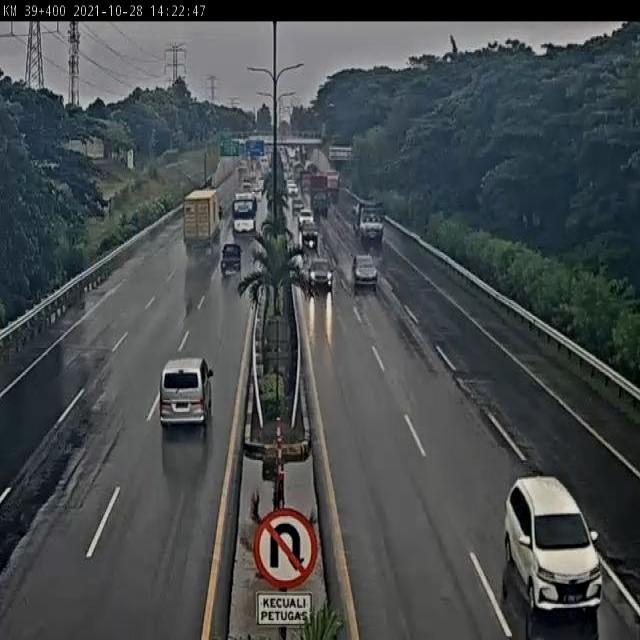Bus: (233, 198, 256, 238)
Car: (504, 474, 602, 612), (352, 254, 378, 292), (307, 258, 333, 292), (292, 196, 304, 213), (286, 180, 298, 197), (242, 180, 254, 196)
Truck: (184, 189, 223, 256), (352, 197, 384, 248), (308, 174, 329, 219), (220, 243, 243, 276)
Van: (159, 356, 213, 428)
